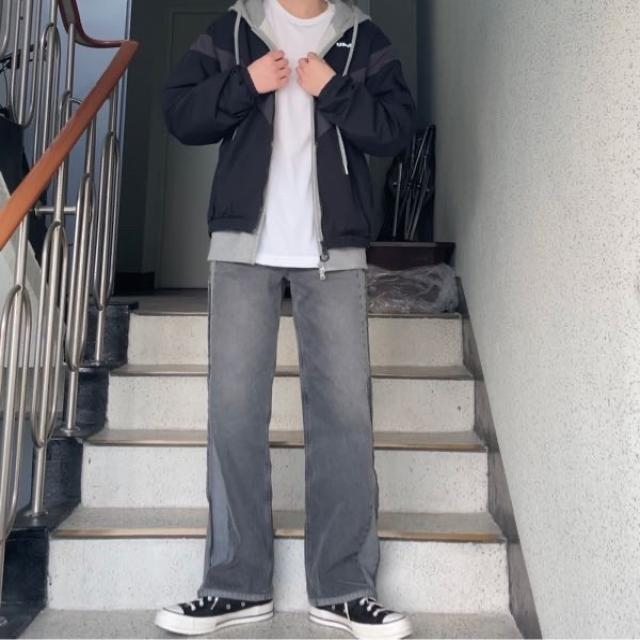denimpants: (202, 253, 379, 607)
jacket: (161, 4, 412, 251)
